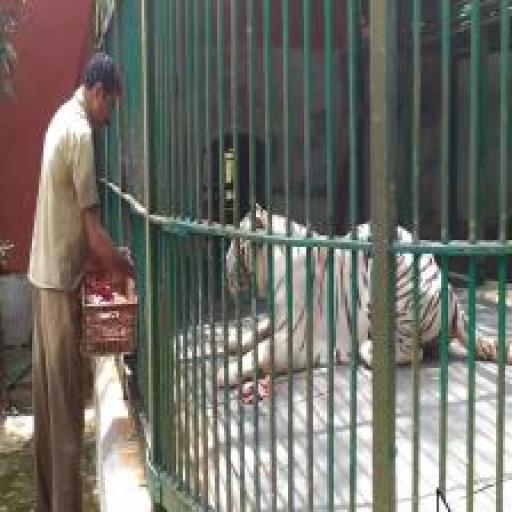Tiger: (215, 196, 512, 391)
